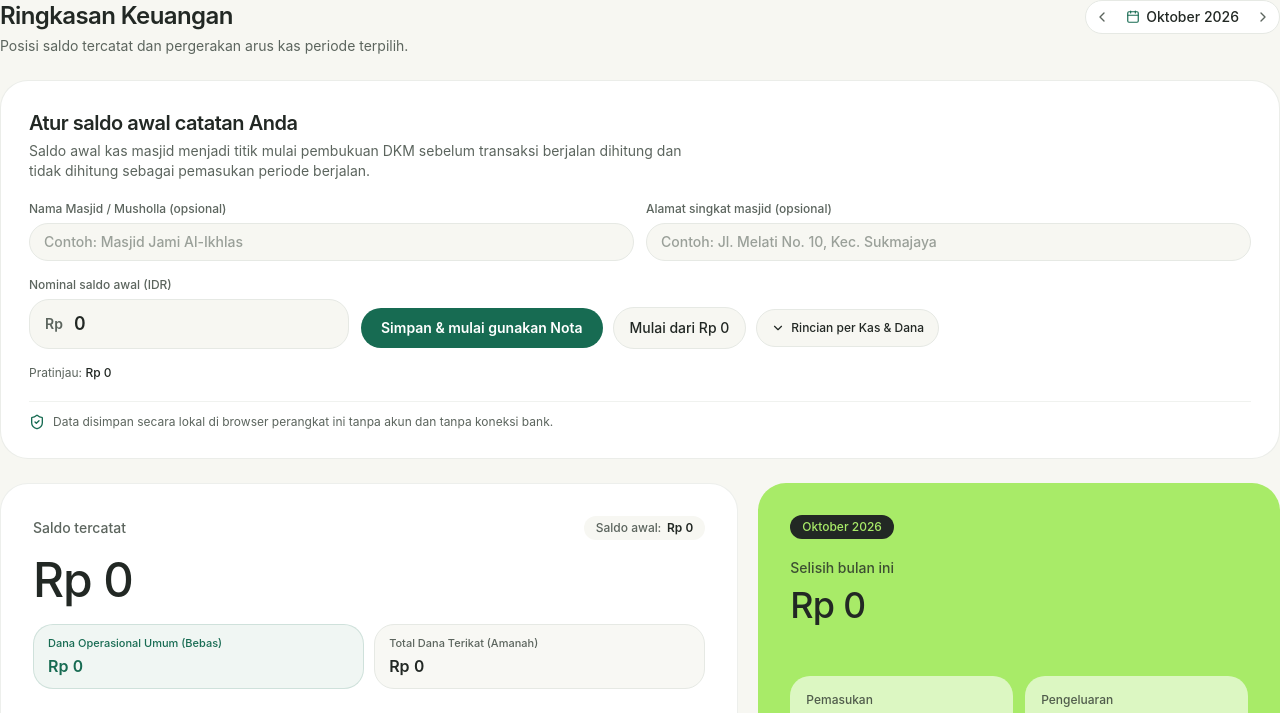
Nota Milestone 2 — Local Persistence & First-Run Setup › supports first-run opening balance setup and subsequent opening balance edits in the UI
This screenshot has width=1280, height=713.
Expected: the heading "Atur saldo awal catatan Anda" is shown, [29, 111, 297, 135]
Type "1500000" into the field labelled "Nominal saldo awal (IDR)".
click(189, 324); type("1500000")  # box [29, 299, 349, 349]
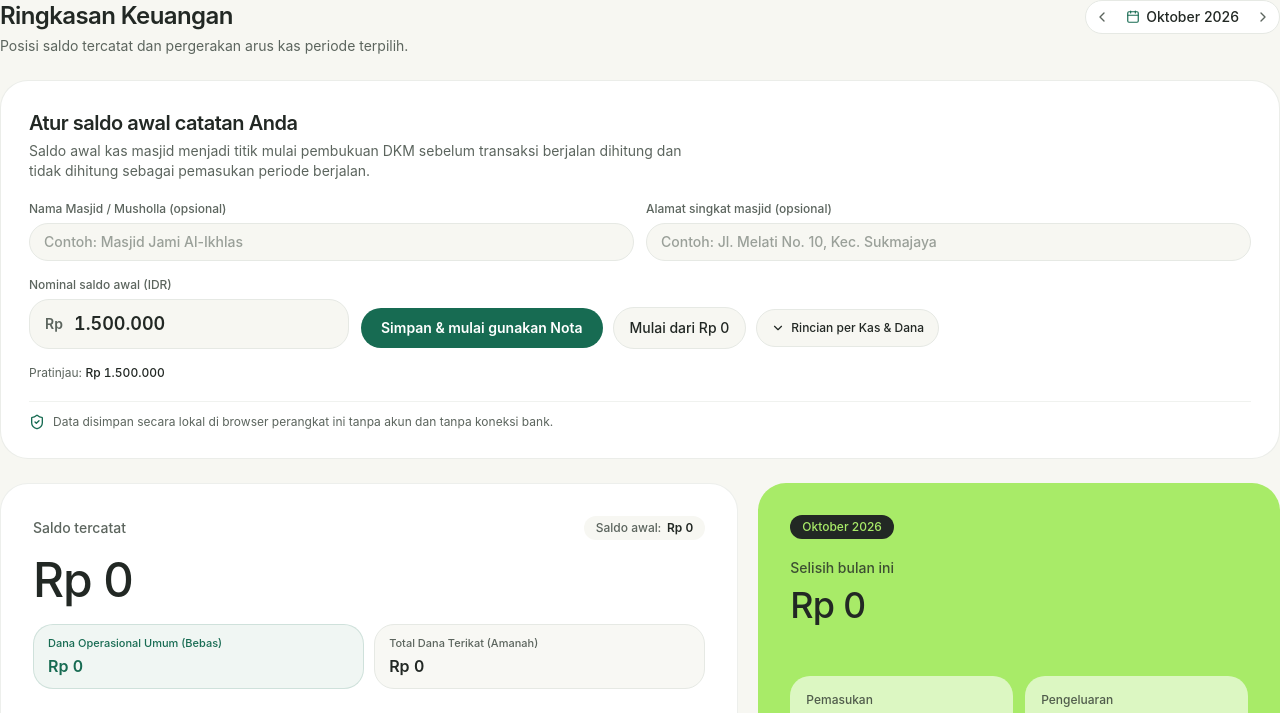
Result: the field labelled "Nominal saldo awal (IDR)" holds "1.500.000" at [29, 299, 349, 349]
Click the button "Simpan & mulai gunakan Nota".
click(482, 328)  # box [361, 308, 602, 348]
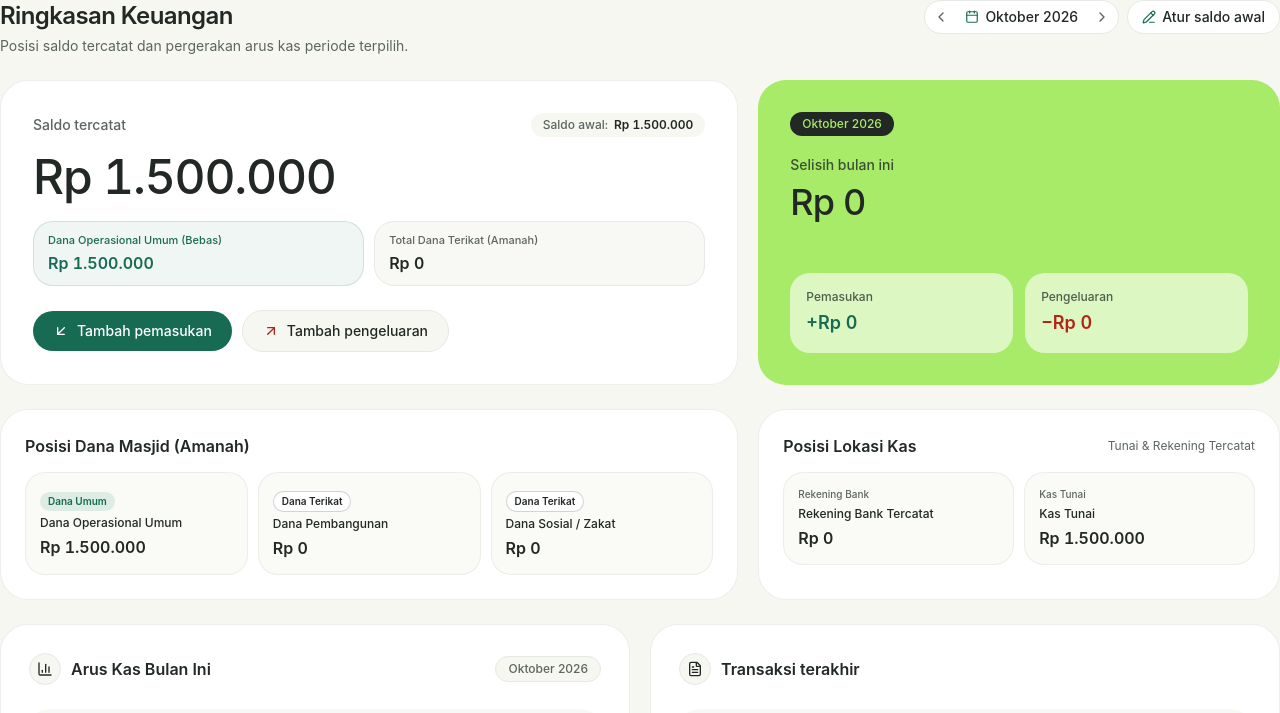
Result: the heading "Atur saldo awal catatan Anda" is gone
User can open the "Atur saldo awal" editor later and update the opening balance
Click the button "Atur saldo awal".
click(1204, 17)  # box [1127, 0, 1279, 34]
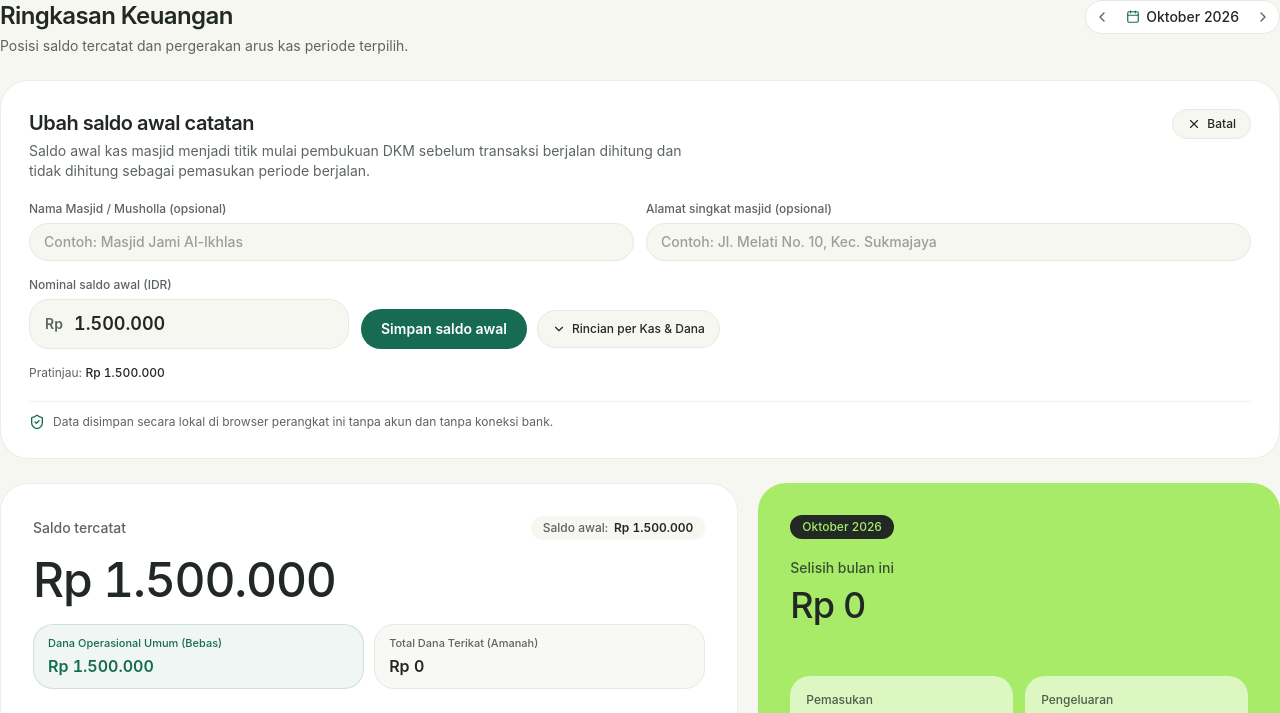
Result: the heading "Ubah saldo awal catatan" is shown at [29, 111, 254, 135]
Replace the text in the field labelled "Nominal saldo awal (IDR)" with "2250000" at coordinates (189, 324), box [29, 299, 349, 349]
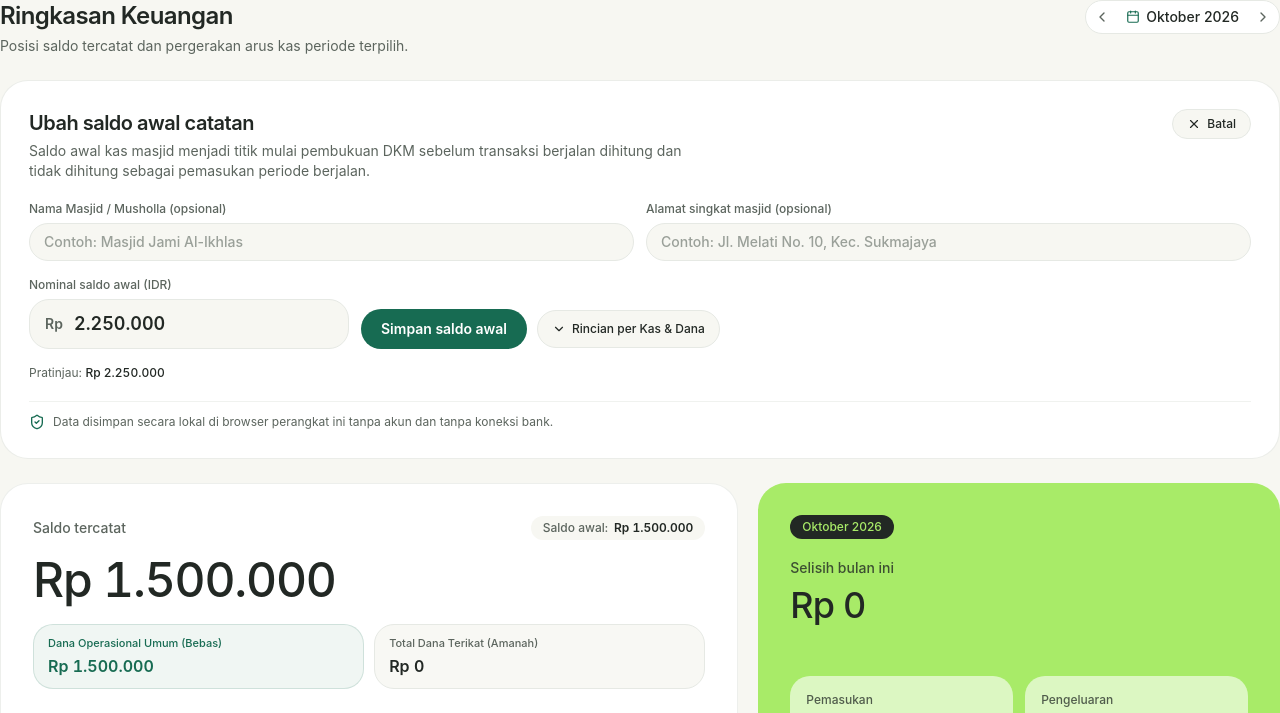
Click the button "Simpan saldo awal".
click(444, 329)  # box [361, 309, 527, 349]
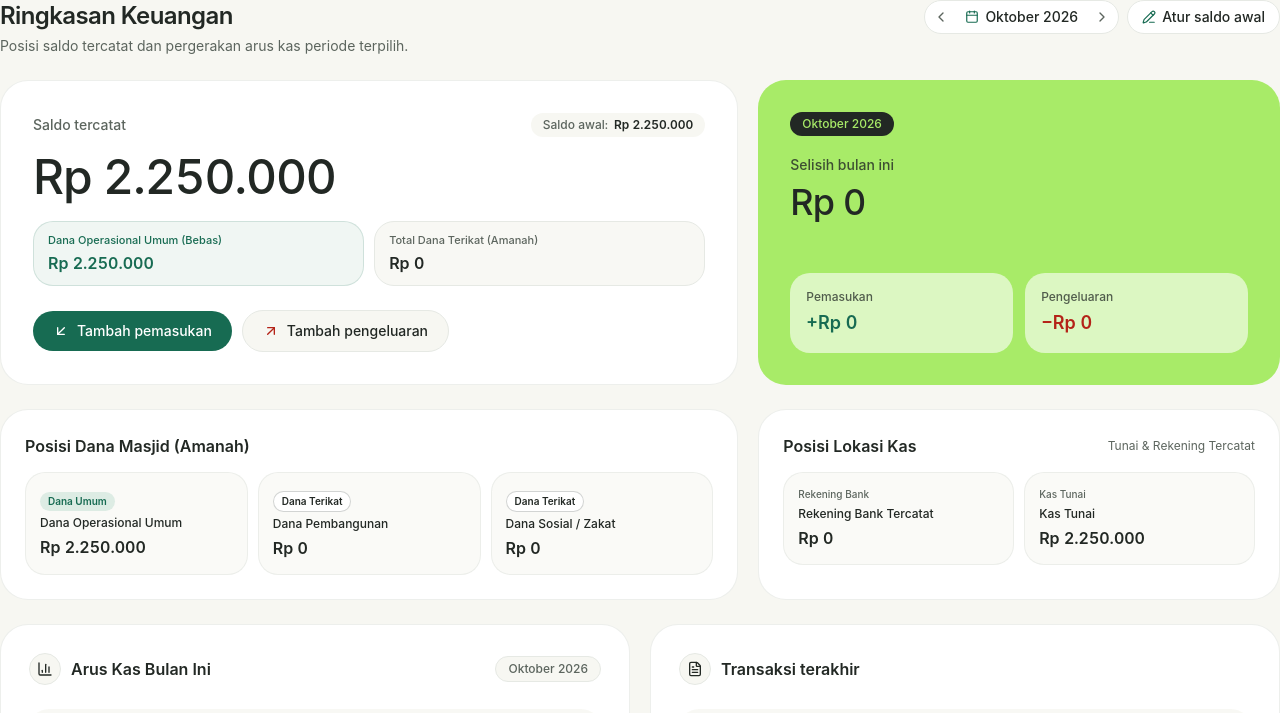
Result: the heading "Ubah saldo awal catatan" is gone
